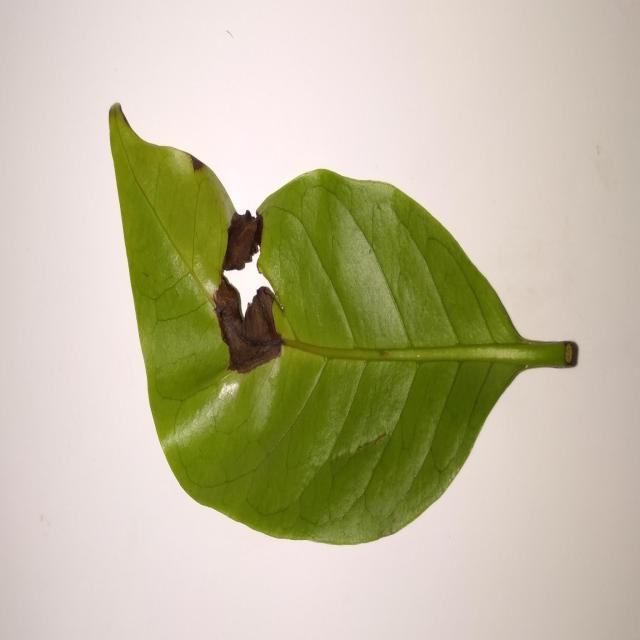Enfermedad-Antracnosis: (108, 103, 580, 549)
